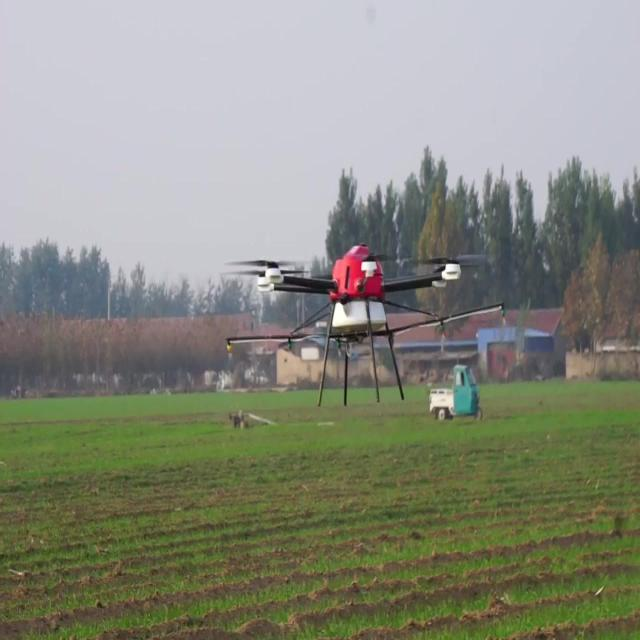drone: (226, 240, 498, 410)
